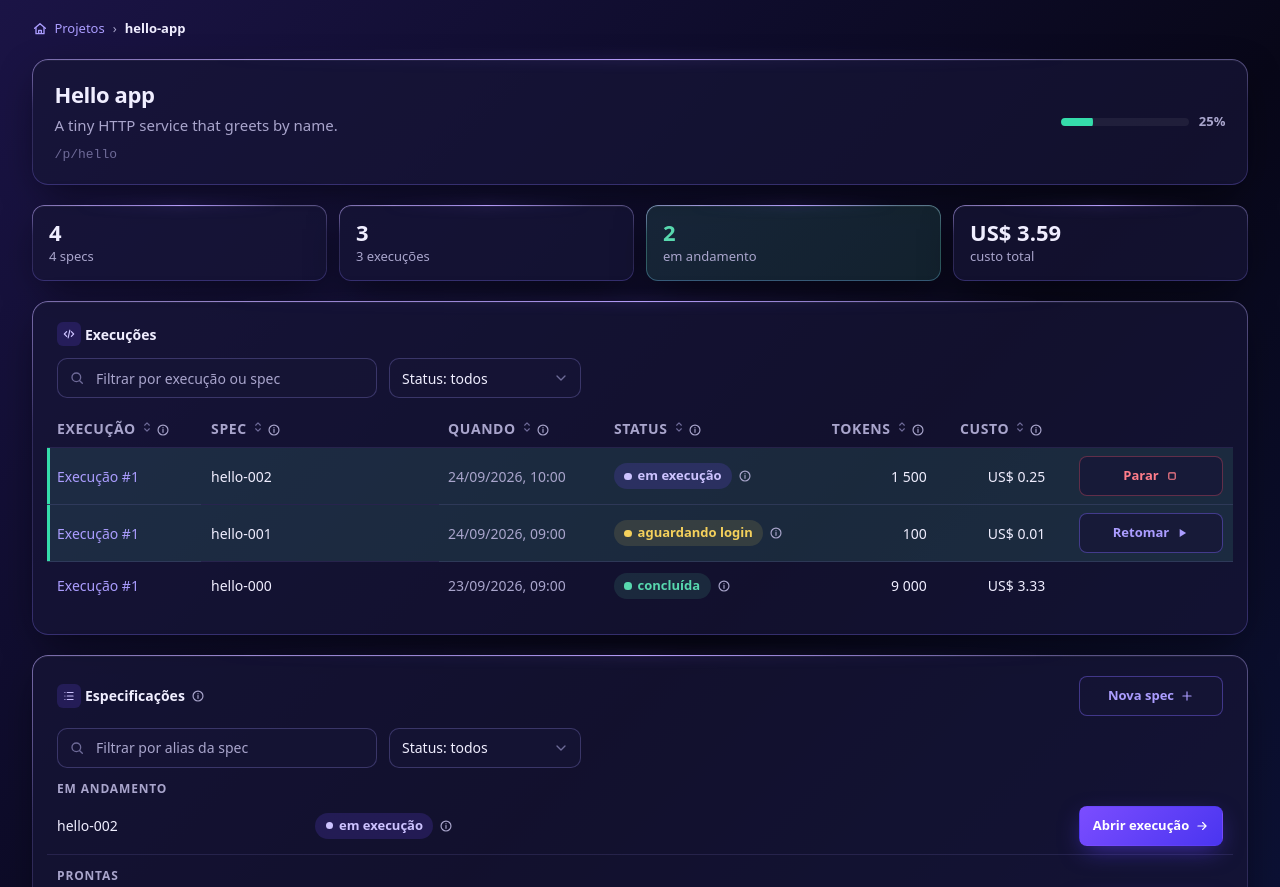
Test: ProjectHubView › filters the specs by alias and by status, and says when none match
Type "003" into the search field named "Filtrar especificações" at (217, 748), box [57, 728, 377, 768]
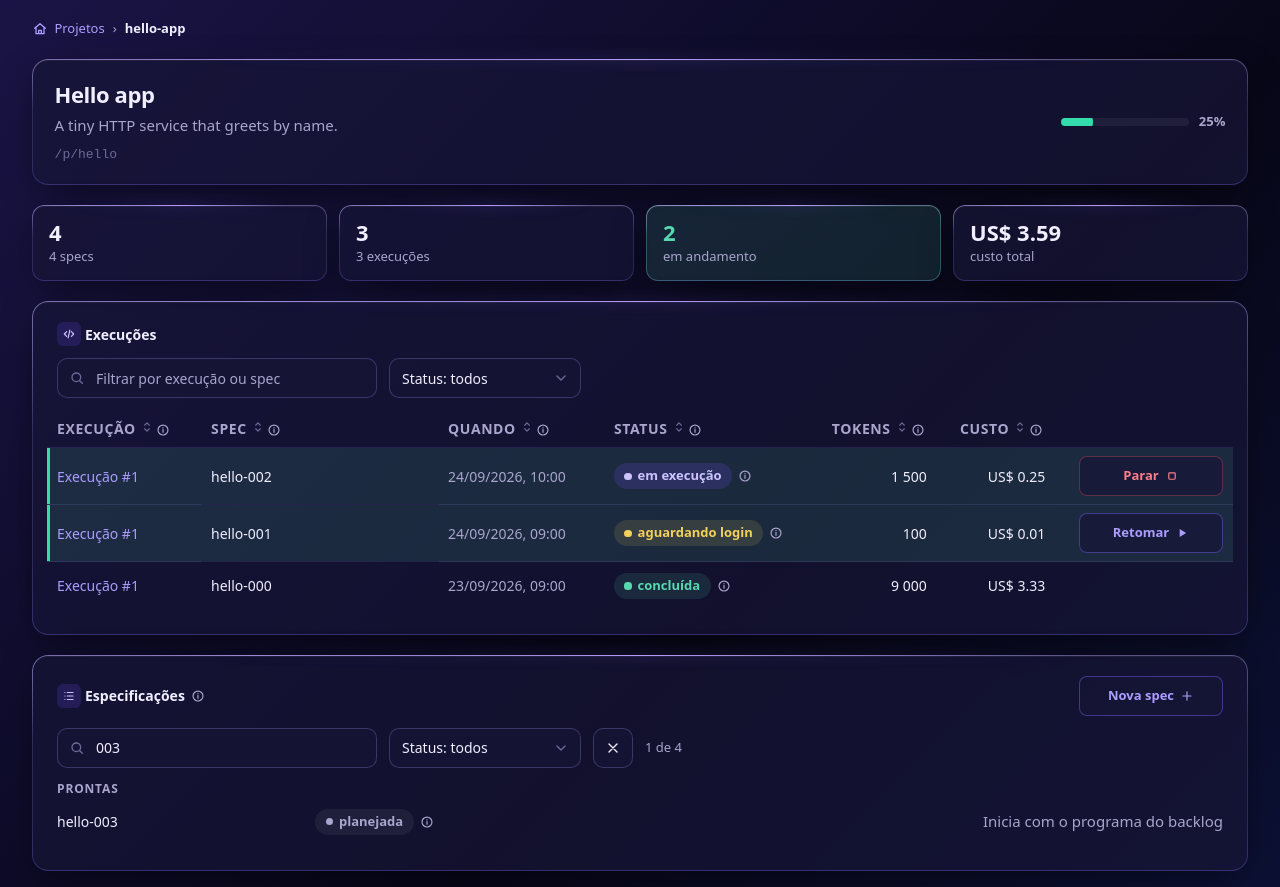
expect the text "hello-003" is shown: met, box [57, 812, 118, 831]
expect the text "1 de 4" is shown: met, box [645, 738, 682, 757]
Clear the search field named "Filtrar especificações" at (217, 748), box [57, 728, 377, 768]
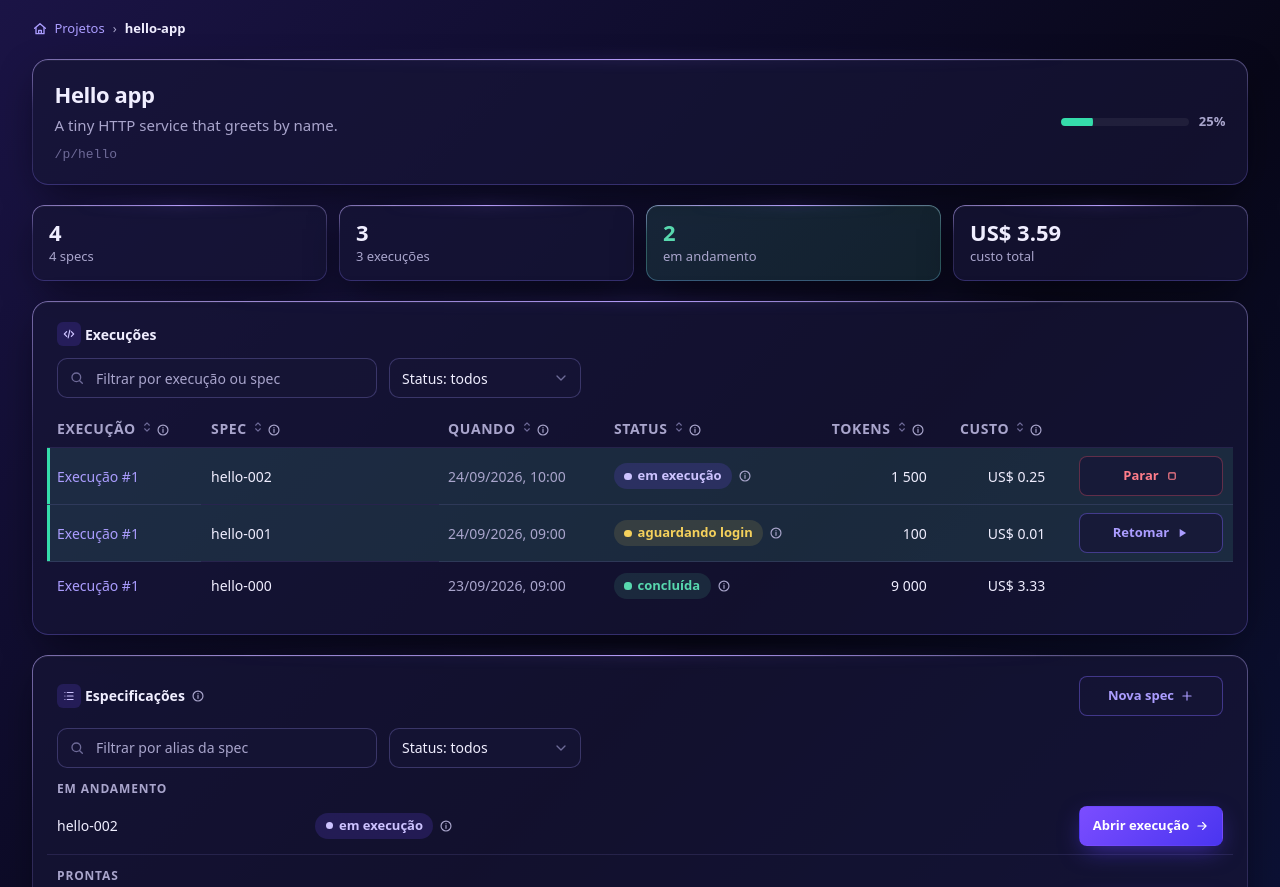
Select "concluída" in the dropdown named "Status" below "Especificações" at (485, 748), box [389, 728, 581, 768]
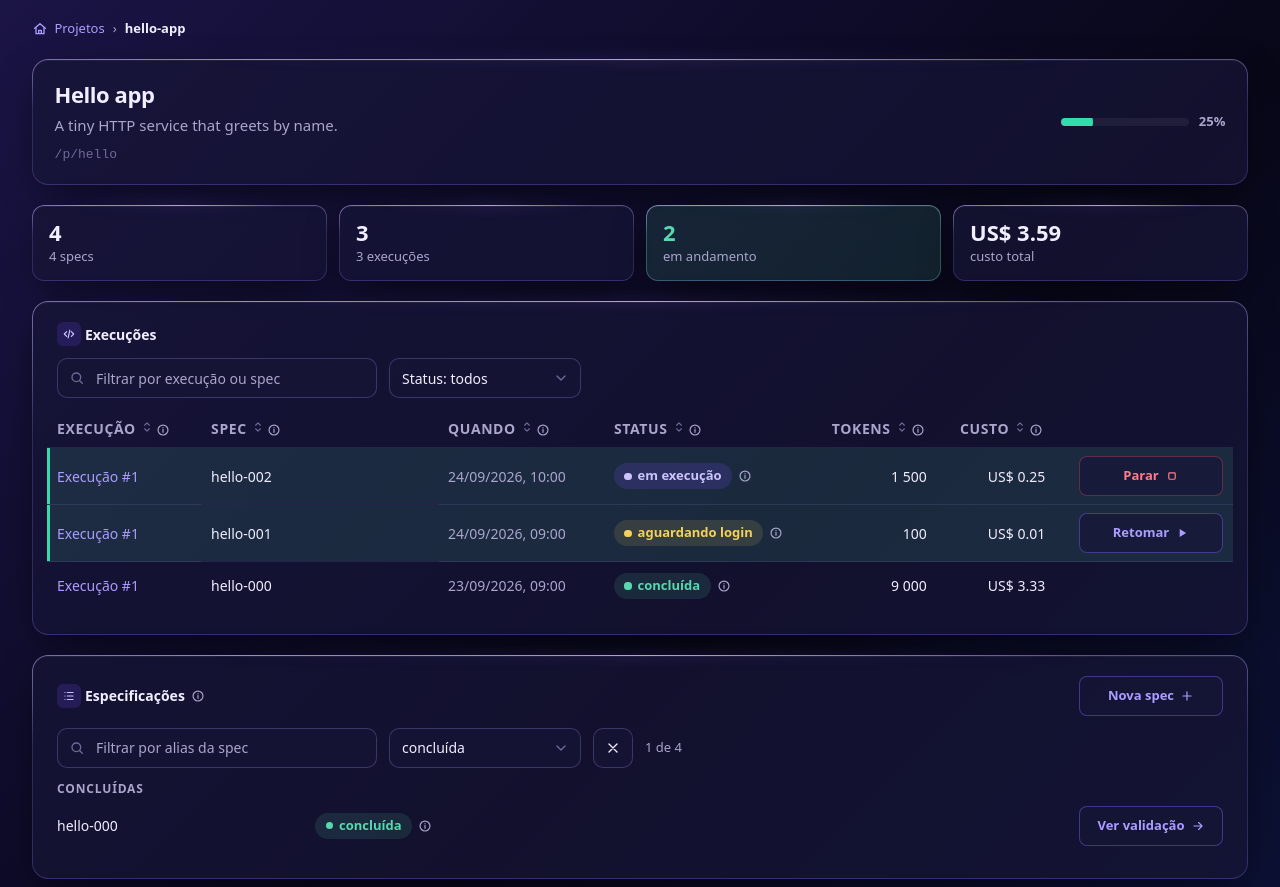
expect the text "hello-000" is shown: met, box [57, 816, 118, 835]
Type "zzz" into the search field named "Filtrar especificações" at (217, 748), box [57, 728, 377, 768]
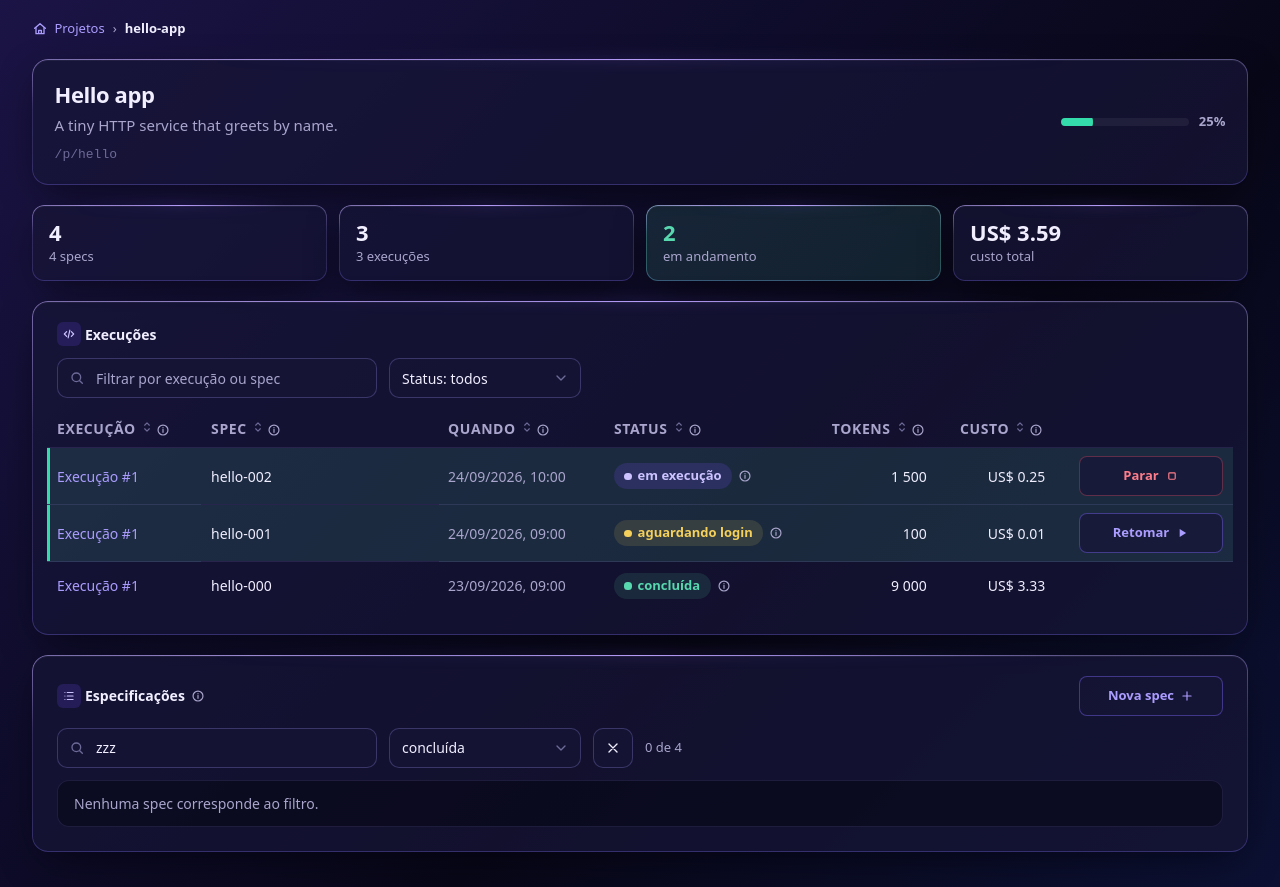
expect the text "Nenhuma spec corresponde ao filtro." is shown: met, box [57, 780, 1223, 827]
Click the button named "Limpar filtros" at (613, 748), box [593, 728, 633, 768]
(page scrolled)
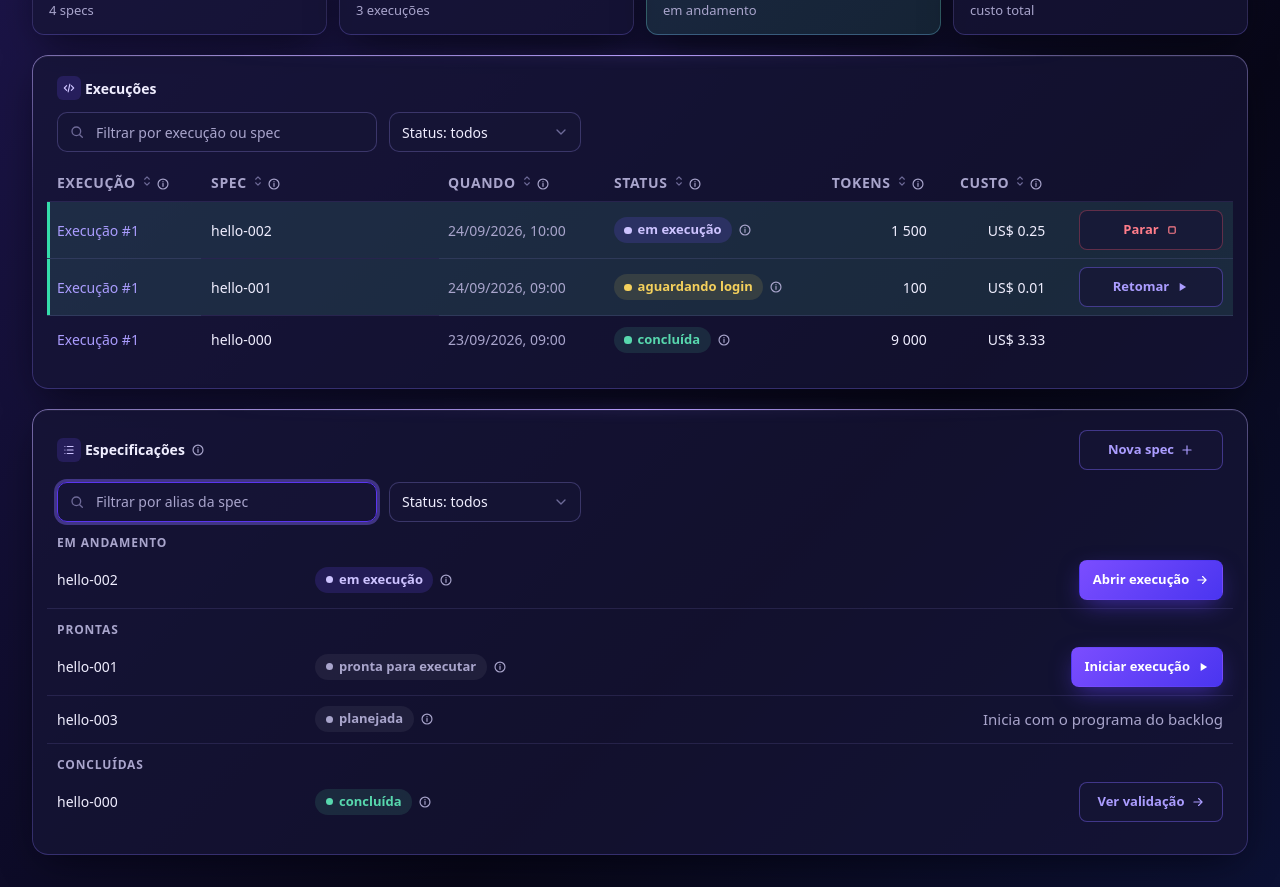
expect the text "hello-001" is shown: met, box [57, 657, 118, 676]
expect the text "hello-003" is shown: met, box [57, 710, 118, 729]
